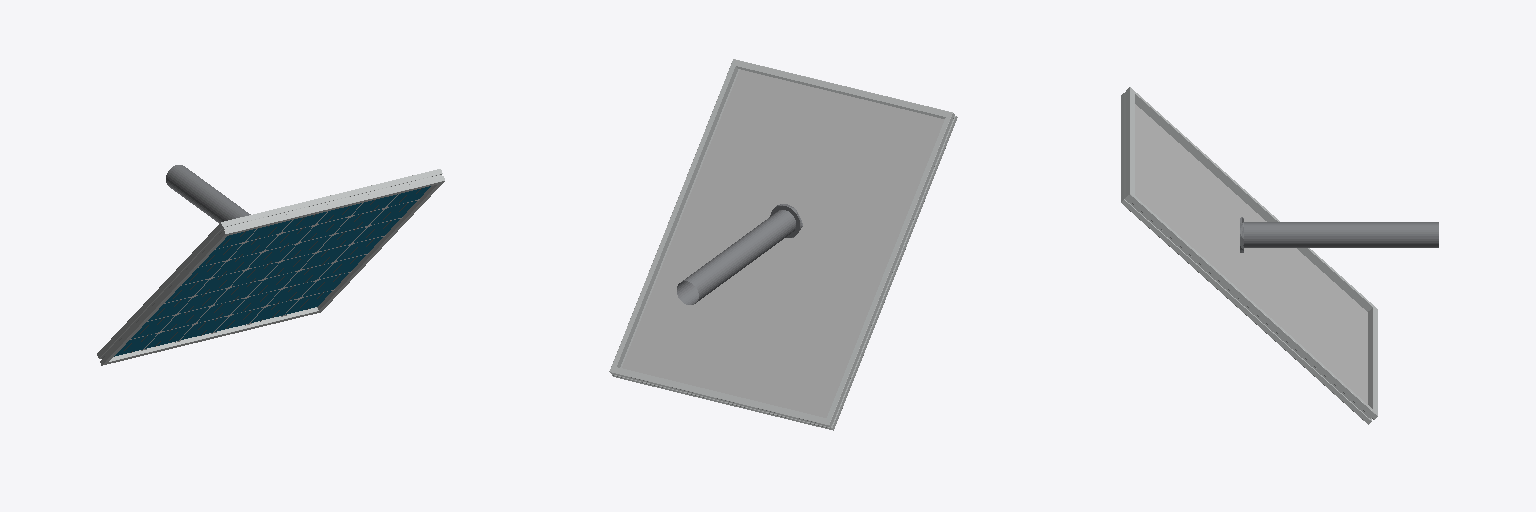
3 renders of one model, left to right at view 1: azimuth 30°, elevation 25°; view 2: azimuth 150°, elevation 25°; view 3: azimuth 270°, elevation 25°, orthographic.
Parts seen in each view (by area): view 1: Object.1, Object.2; view 2: Object.1, Object.2; view 3: Object.1, Object.2.
Boxes of the visible parts, x1,y1,x2,y2 form: Object.1: [97, 169, 444, 365]; Object.2: [166, 165, 250, 223]; Object.1: [609, 59, 957, 430]; Object.2: [677, 204, 802, 304]; Object.1: [1121, 87, 1377, 424]; Object.2: [1240, 217, 1438, 252].
Size of the model in its own units: 22.61 by 22.66 by 28.36.
2 materials, 2 textured.